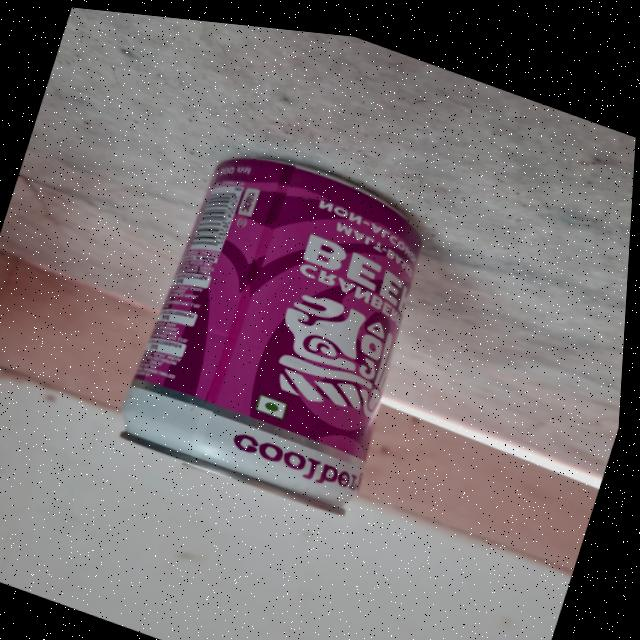Coolberg: (115, 128, 443, 516)
